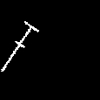double_crochet: (1, 21, 38, 70)
